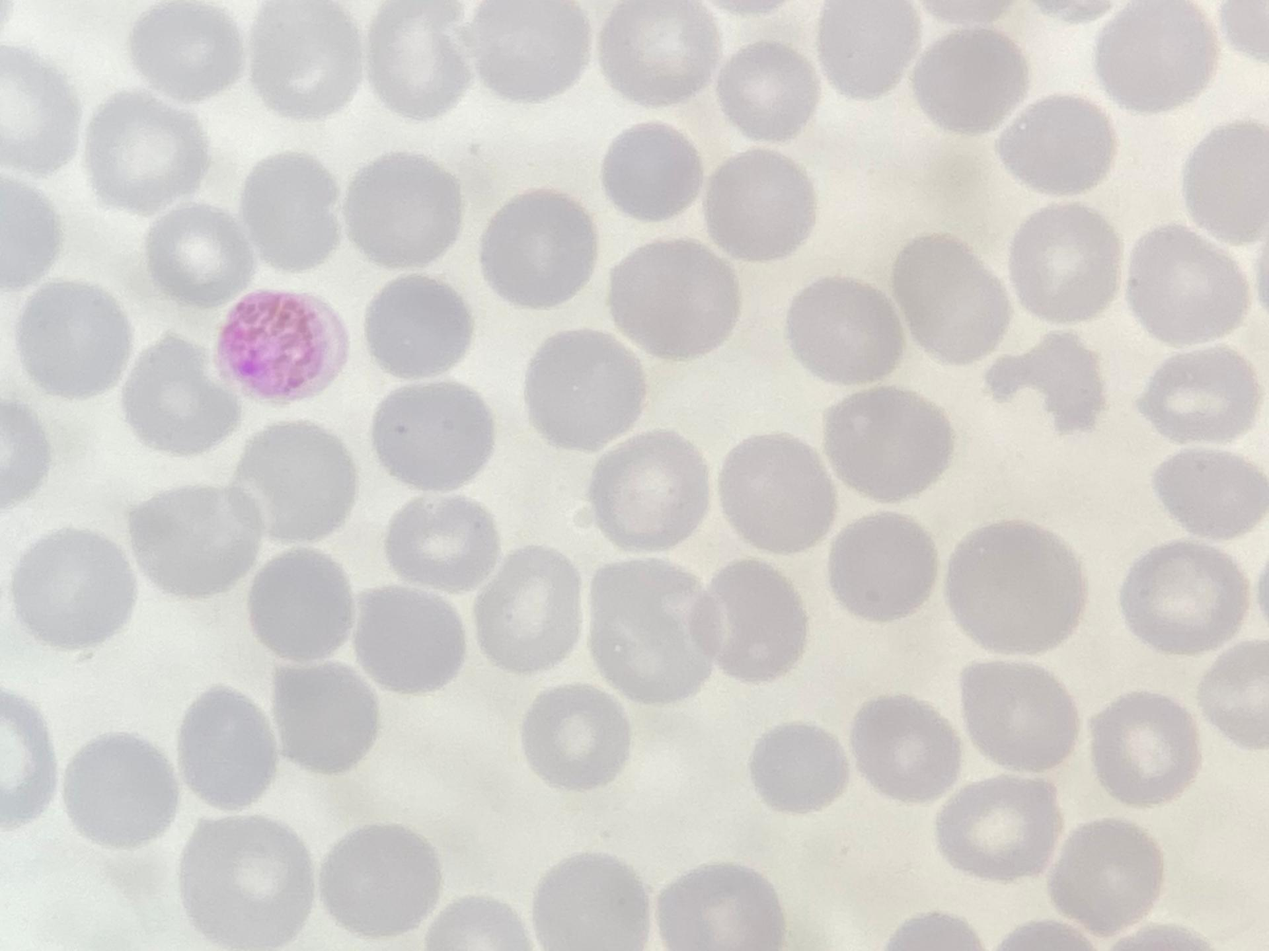Infected: (217, 287, 346, 400)
Uninfected: (586, 559, 718, 702), (942, 521, 1083, 653), (177, 815, 311, 946), (890, 231, 1014, 360), (128, 481, 264, 598), (607, 234, 737, 356), (10, 526, 135, 650), (233, 424, 359, 544), (822, 386, 953, 501), (342, 153, 468, 271), (1124, 223, 1247, 341), (86, 93, 208, 211), (717, 431, 839, 549), (697, 558, 812, 683), (524, 330, 645, 448), (587, 430, 709, 547), (1093, 1, 1218, 115), (369, 379, 496, 491), (122, 335, 240, 454), (479, 190, 599, 307), (958, 660, 1081, 774), (319, 825, 442, 939), (473, 549, 585, 674), (59, 732, 177, 850), (1121, 541, 1244, 654), (17, 278, 130, 397), (1048, 817, 1162, 934), (1016, 206, 1124, 329), (270, 660, 383, 777), (934, 775, 1059, 880), (238, 150, 348, 268), (176, 688, 281, 811), (249, 1, 361, 116), (827, 512, 943, 623), (352, 584, 469, 694), (244, 548, 356, 662), (1085, 691, 1196, 804), (987, 330, 1106, 435), (994, 93, 1115, 196), (703, 151, 816, 261), (912, 32, 1031, 136), (1139, 344, 1261, 445), (366, 1, 474, 115), (787, 276, 902, 383), (850, 693, 964, 799), (599, 1, 718, 102), (469, 1, 587, 102), (363, 273, 477, 377), (384, 492, 502, 591), (518, 685, 628, 790), (529, 853, 649, 948), (654, 862, 780, 951), (128, 3, 241, 101), (1180, 120, 1269, 242), (1147, 443, 1265, 535), (144, 205, 251, 305), (600, 121, 705, 219), (715, 38, 818, 137), (816, 3, 921, 99), (4, 52, 81, 173), (750, 720, 849, 814), (1196, 640, 1268, 750)
